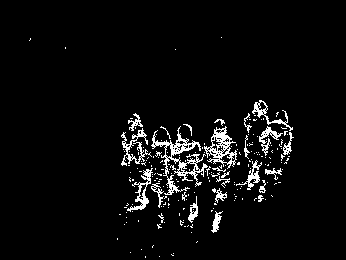person: (203, 118, 238, 235), (120, 113, 154, 217), (173, 122, 204, 226), (149, 124, 177, 226), (261, 111, 292, 201), (246, 97, 270, 189)
